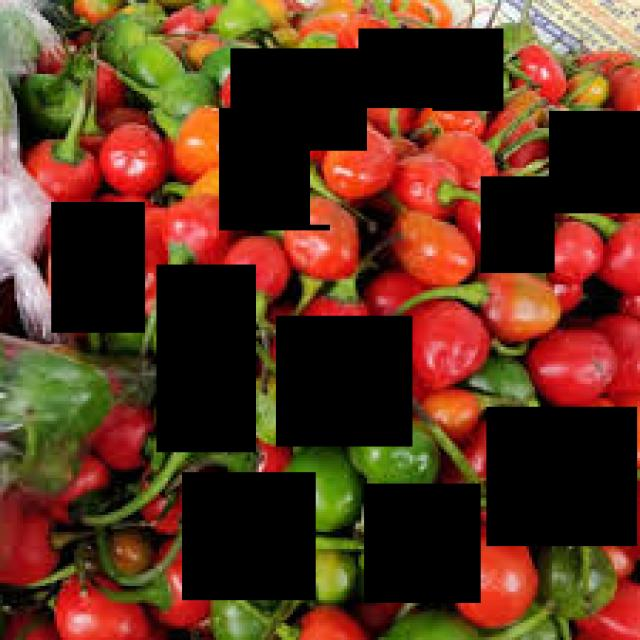Akabare_Khursani: (489, 410, 640, 548), (158, 265, 259, 452), (276, 317, 412, 446), (184, 475, 318, 603), (310, 111, 432, 227), (365, 484, 481, 604), (233, 51, 369, 153), (222, 110, 332, 233), (54, 202, 148, 334), (360, 32, 504, 113), (549, 111, 640, 213), (483, 176, 557, 274)
